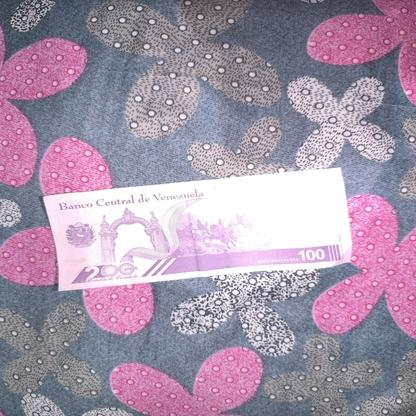one_hundred-back-vef: (41, 166, 352, 292)
